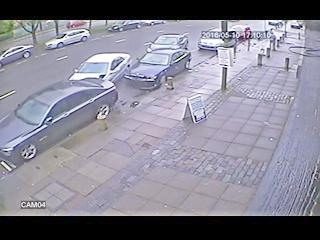Car: (0, 76, 120, 170), (123, 47, 191, 90), (71, 50, 132, 91), (197, 27, 237, 53), (44, 29, 90, 49), (146, 33, 189, 53), (1, 44, 34, 69), (107, 20, 142, 32), (230, 24, 252, 40), (66, 20, 86, 29), (140, 20, 166, 26), (268, 20, 284, 28), (290, 21, 302, 29)
Minor Accident: (30, 50, 123, 137)
